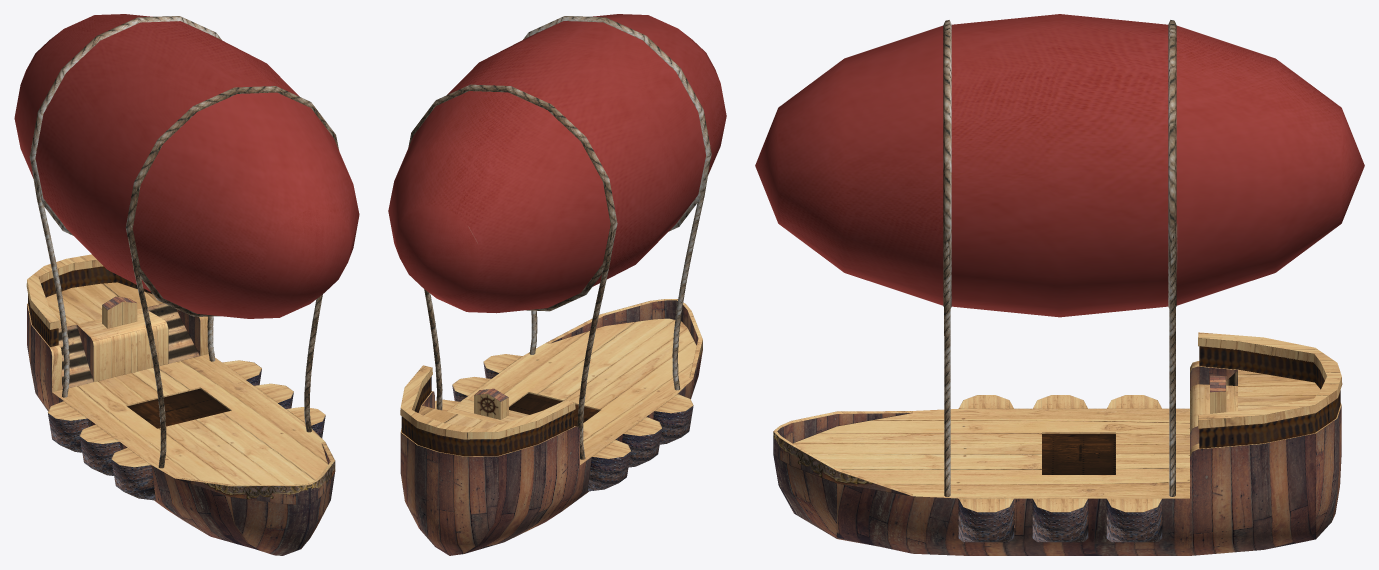
The model's file is skyship.fbx.
3 views of the same model, side by side, from view 1: azimuth 30°, elevation 25°; view 2: azimuth 150°, elevation 25°; view 3: azimuth 270°, elevation 25° (orthographic). The views are drawn at different scales.
Parts seen in each view (by area): view 1: Sphere, Plane, BézierCurve; view 2: Sphere, Plane, BézierCurve; view 3: Sphere, Plane, BézierCurve.
Part boxes in pixels (left/top/right/bottom): Sphere: left=14, top=14, right=359, bottom=318; Plane: left=26, top=254, right=335, bottom=555; BézierCurve: left=31, top=163, right=322, bottom=468; Sphere: left=388, top=14, right=726, bottom=313; Plane: left=400, top=299, right=702, bottom=555; BézierCurve: left=424, top=161, right=710, bottom=459; Sphere: left=755, top=14, right=1364, bottom=317; Plane: left=773, top=332, right=1342, bottom=555; BézierCurve: left=944, top=226, right=1175, bottom=496.
Size of the model in its own units: 367 by 692 by 737.
